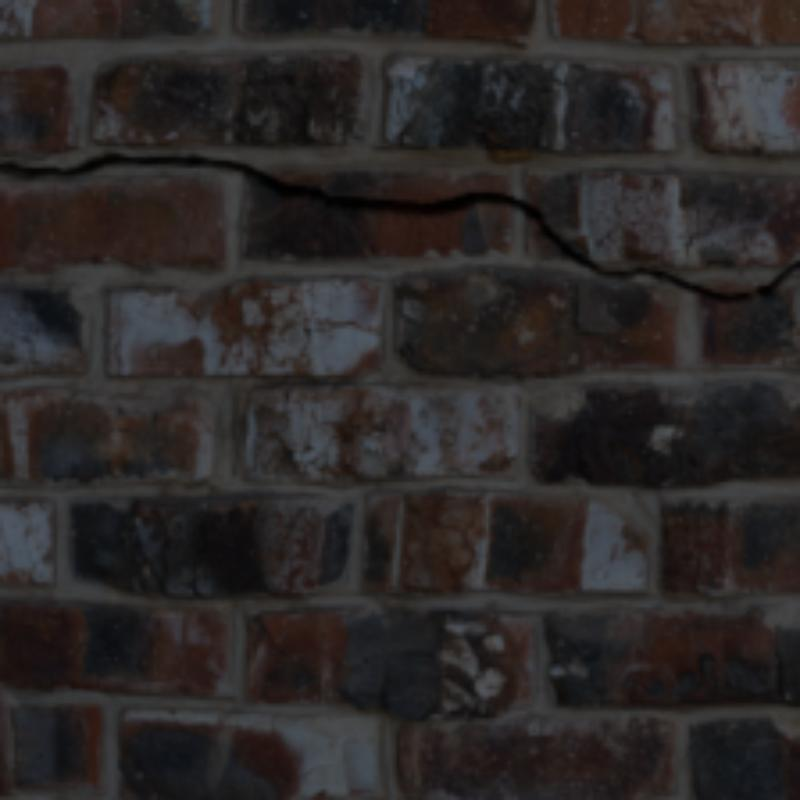pothole: (1, 156, 796, 302)
